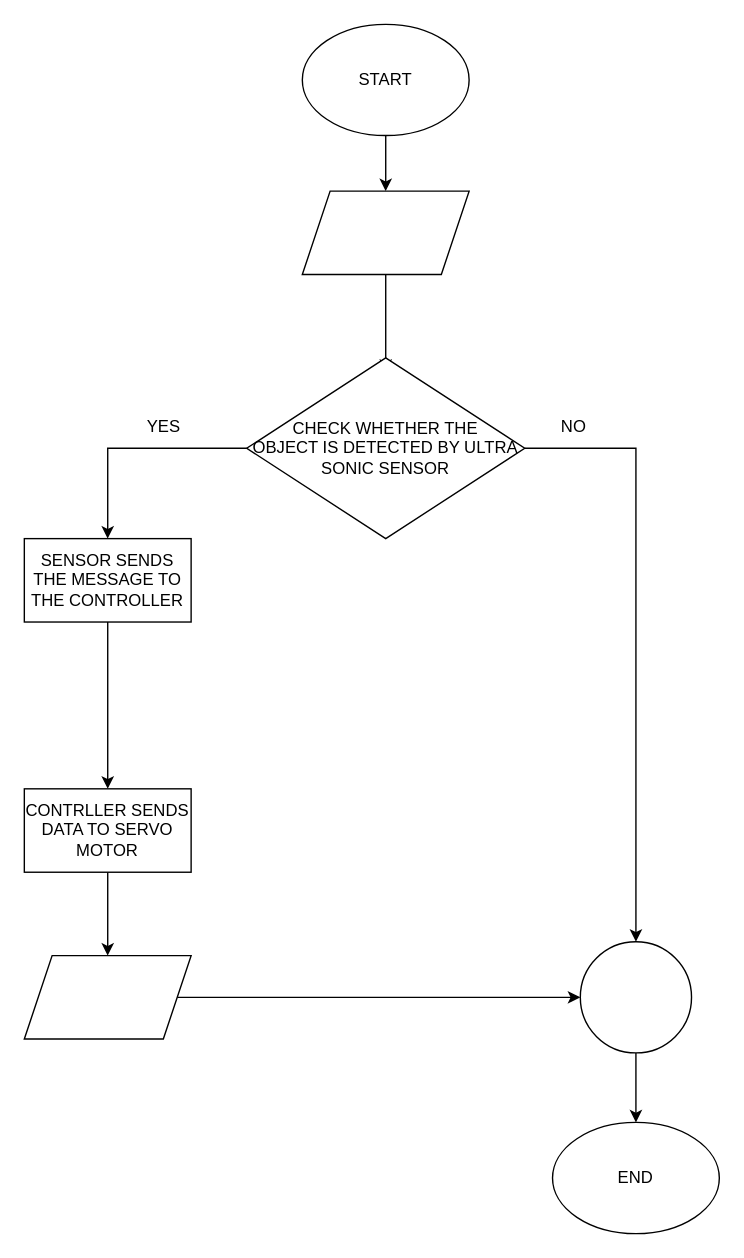
The diagram is 744 pixels wide and 1258 high, and some of its shapes have lost their labels. Each missing label, with the box of its shape:
DUSTBIN OPEN: (23, 954, 191, 1039)
READ OBJECT: (301, 190, 469, 275)
